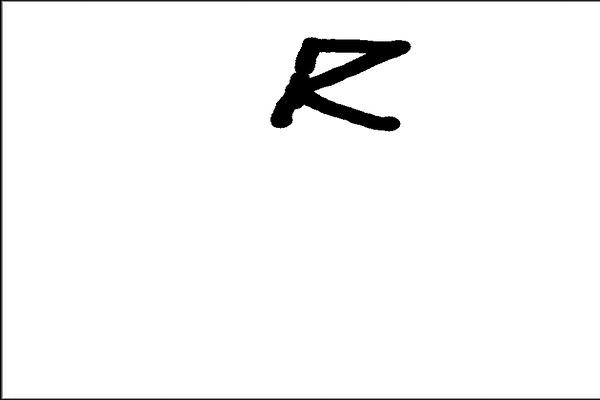R: (258, 28, 431, 147)
